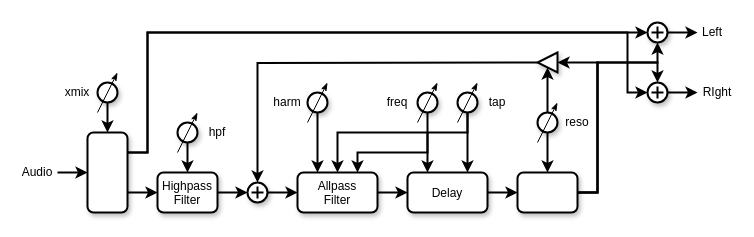
Some shapes in this 754 by 237 pixel diagram are drawn without their labels. The centre of each missing label's shape, as x and y in pixels:
Cross Mix: (108,173)
Lowpass Filter: (548,193)
